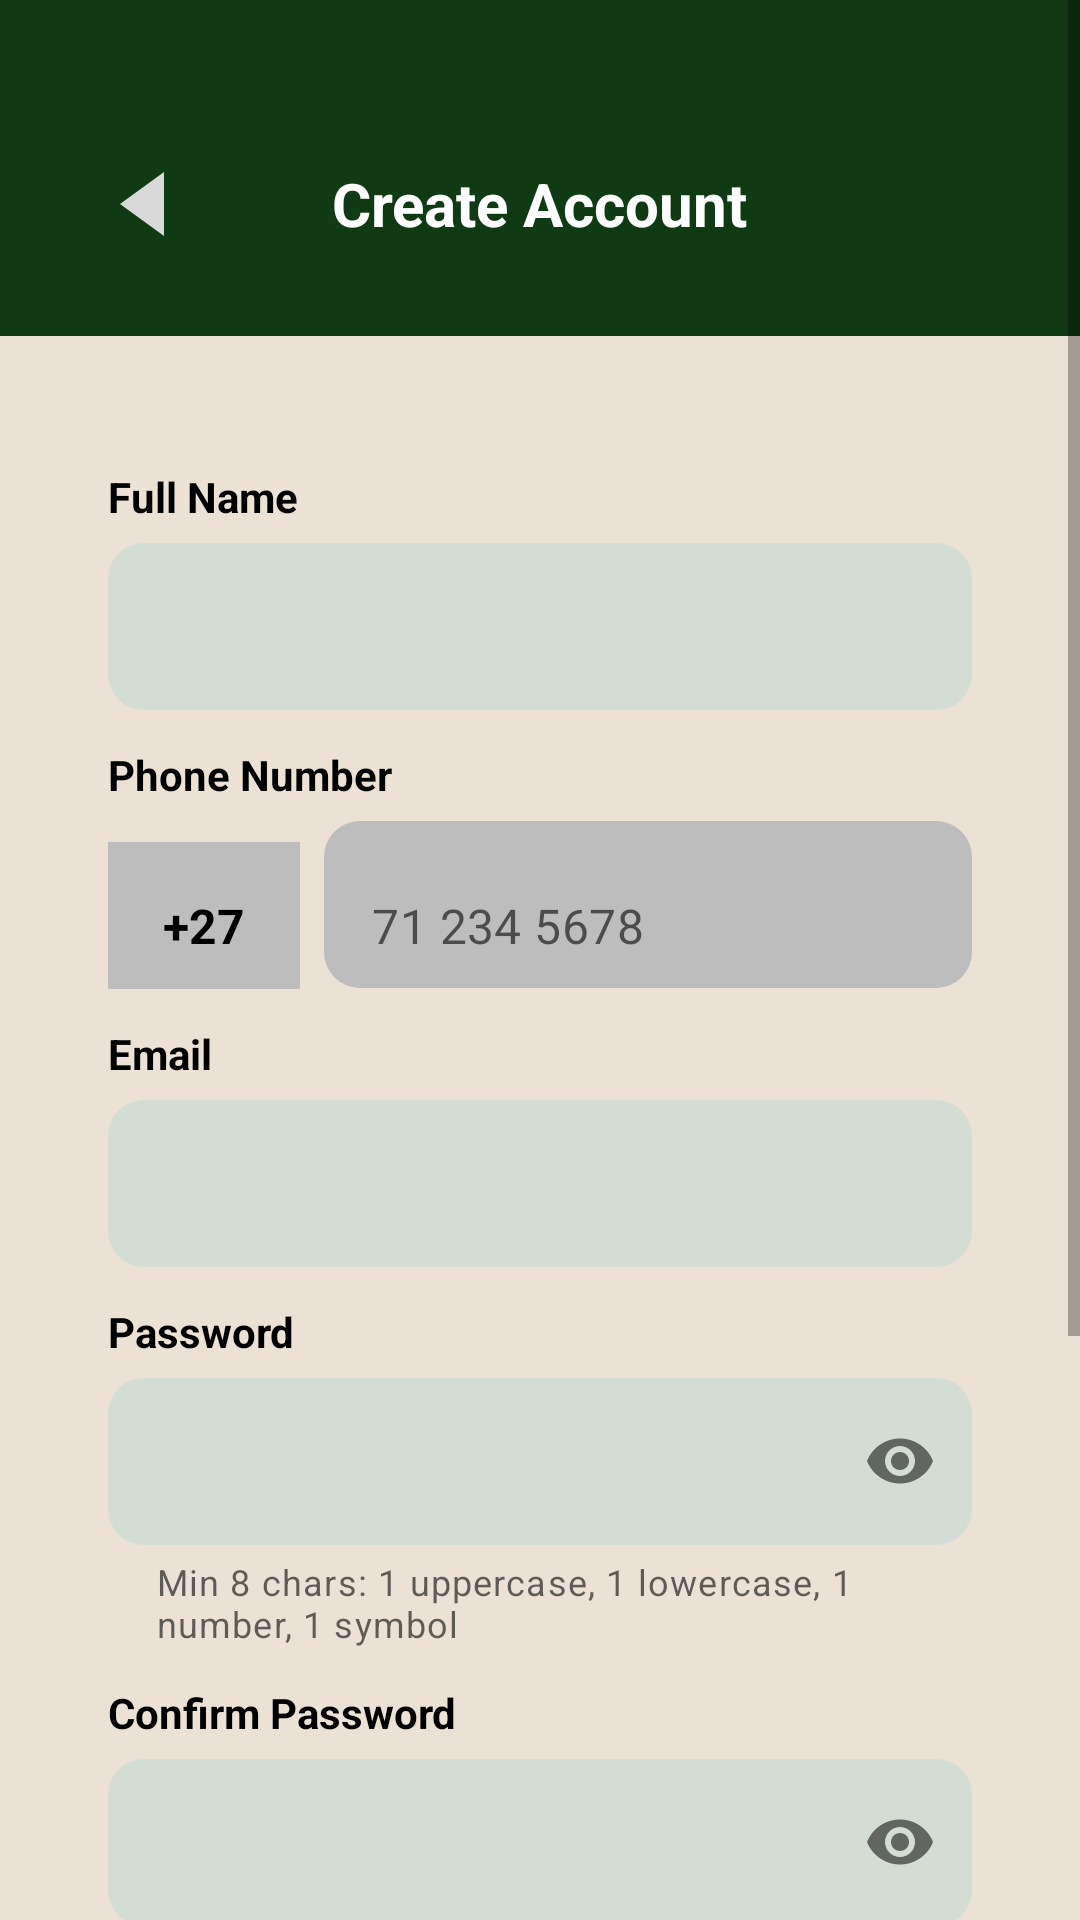

Icon click points for this 1080w x 1920h phone screenshot, format point (x, y):
Back: point (142, 204)
